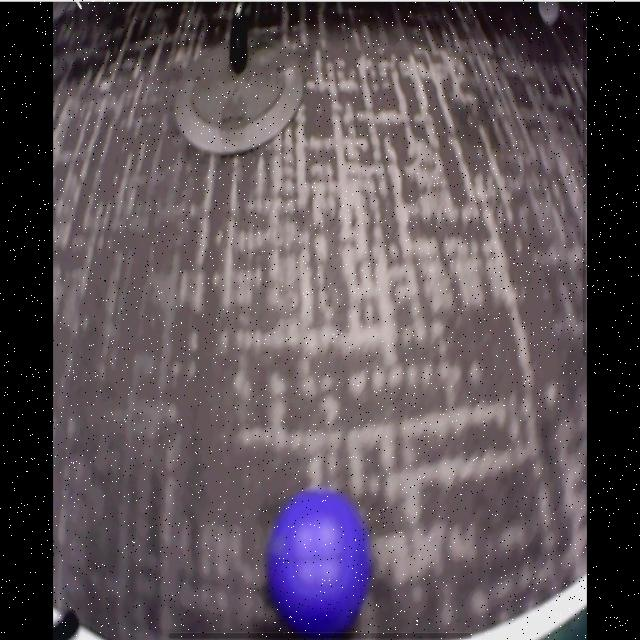ball: (268, 491, 371, 640)
